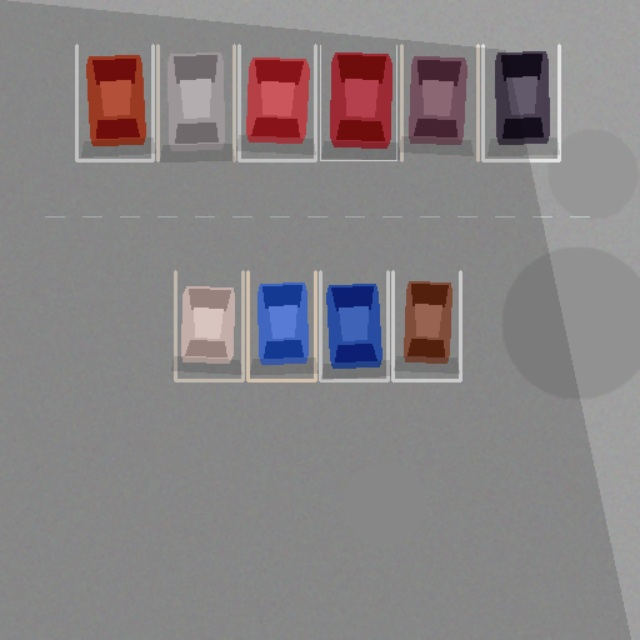space-occupied: (76, 45, 153, 160), (157, 45, 234, 160), (239, 45, 315, 160), (320, 45, 396, 160), (401, 45, 477, 160), (483, 45, 559, 160), (175, 271, 243, 380), (247, 271, 315, 380), (320, 271, 387, 380), (393, 271, 460, 380)
